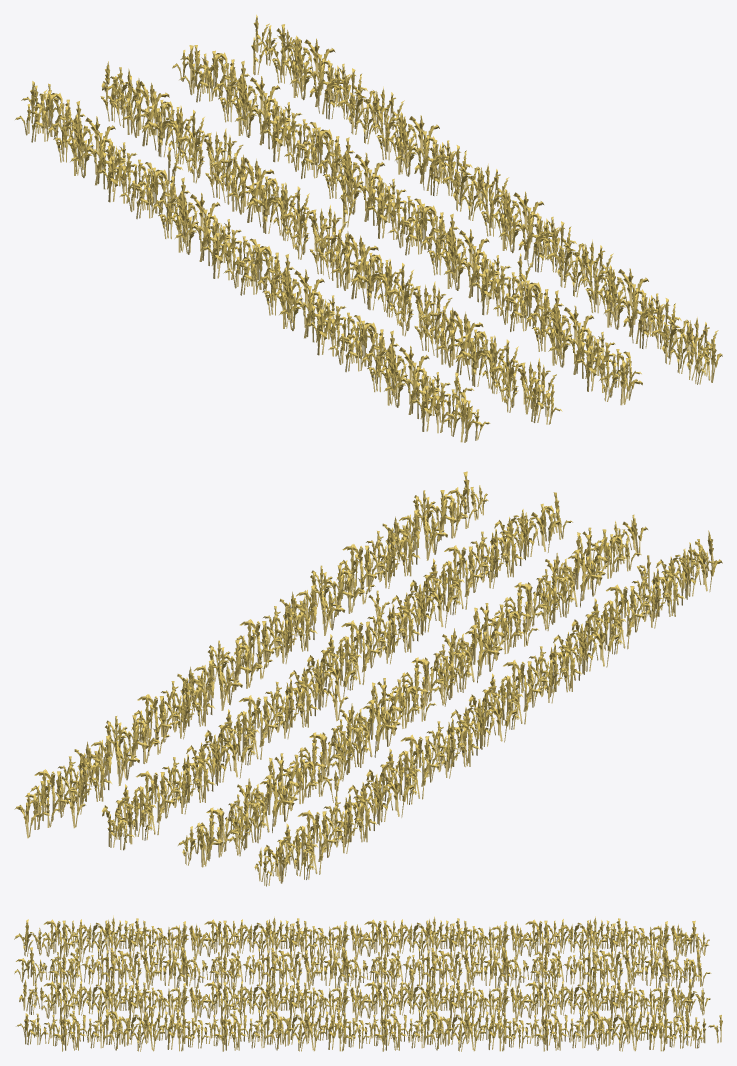
The model's file is SM_Wheatfields2.fbx.
The picture shows the model from 3 angles, top to bottom: view 1: azimuth 30°, elevation 25°; view 2: azimuth 150°, elevation 25°; view 3: azimuth 270°, elevation 25°; orthographic projection. The views are drawn at different scales.
Parts seen in each view (by area): view 1: SM_Wheatfield.002, SM_Wheatfield, SM_Wheatfield.001, SM_Wheatfield.003; view 2: SM_Wheatfield.001, SM_Wheatfield.003, SM_Wheatfield.002, SM_Wheatfield; view 3: SM_Wheatfield.003, SM_Wheatfield, SM_Wheatfield.002, SM_Wheatfield.001.
Boxes of the visible parts, x1,y1,x2,y2 form: SM_Wheatfield.002: (172, 45, 642, 405); SM_Wheatfield: (15, 81, 490, 442); SM_Wheatfield.001: (100, 61, 562, 424); SM_Wheatfield.003: (251, 14, 722, 384); SM_Wheatfield.001: (178, 514, 647, 867); SM_Wheatfield.003: (14, 471, 488, 838); SM_Wheatfield.002: (102, 492, 572, 850); SM_Wheatfield: (254, 530, 722, 886); SM_Wheatfield.003: (16, 1005, 722, 1051); SM_Wheatfield: (14, 915, 709, 962); SM_Wheatfield.002: (19, 972, 710, 1025); SM_Wheatfield.001: (14, 939, 711, 989).
Size of the model in its own units: 401 by 53.62 by 1044.
